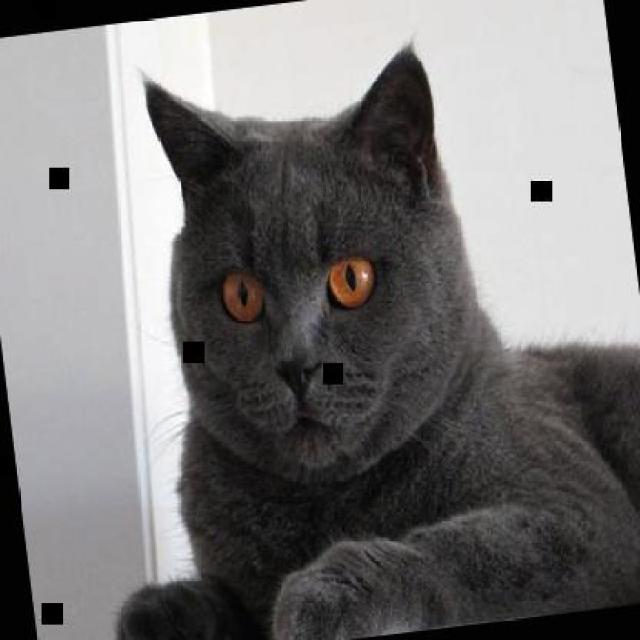cat: (44, 20, 638, 638)
